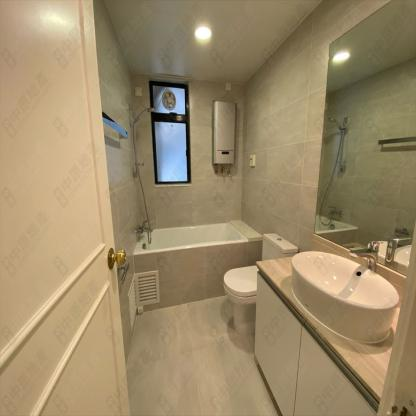Bathtub: (130, 220, 246, 311)
Exhaust Fan: (161, 89, 178, 109)
Faucet: (341, 238, 382, 272)
Toilet: (221, 264, 258, 335), (262, 230, 297, 259)
Toilet Sink: (291, 248, 400, 344)
Water Heater: (213, 98, 235, 166)
